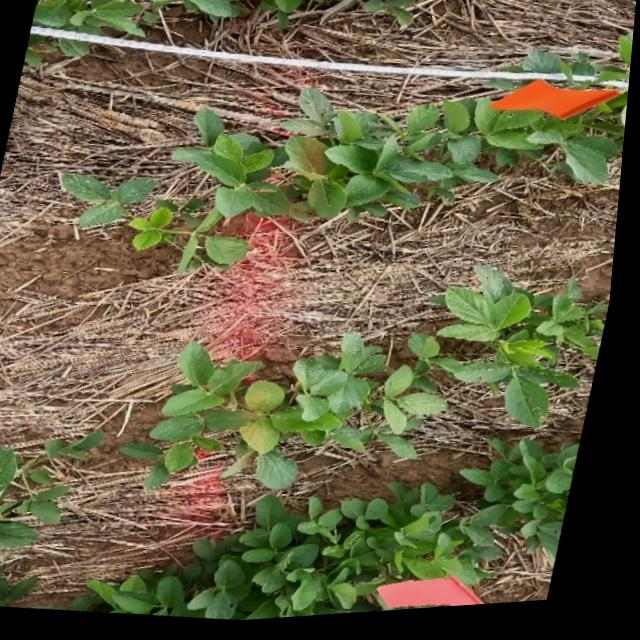soy_plant: (130, 273, 610, 493), (78, 446, 588, 624), (135, 91, 631, 274), (32, 0, 416, 38), (0, 446, 73, 572), (64, 174, 158, 226), (25, 33, 89, 66), (0, 573, 47, 608), (53, 432, 111, 460)
